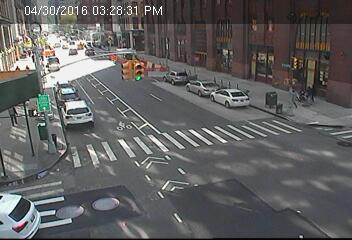neg: (124, 50, 148, 83), (28, 90, 49, 119), (97, 185, 115, 208), (223, 44, 240, 67), (47, 132, 61, 151), (68, 44, 80, 61), (34, 36, 45, 51), (177, 32, 188, 46), (180, 71, 190, 85)
pos: (283, 88, 304, 117), (4, 104, 22, 127), (303, 81, 319, 102)
